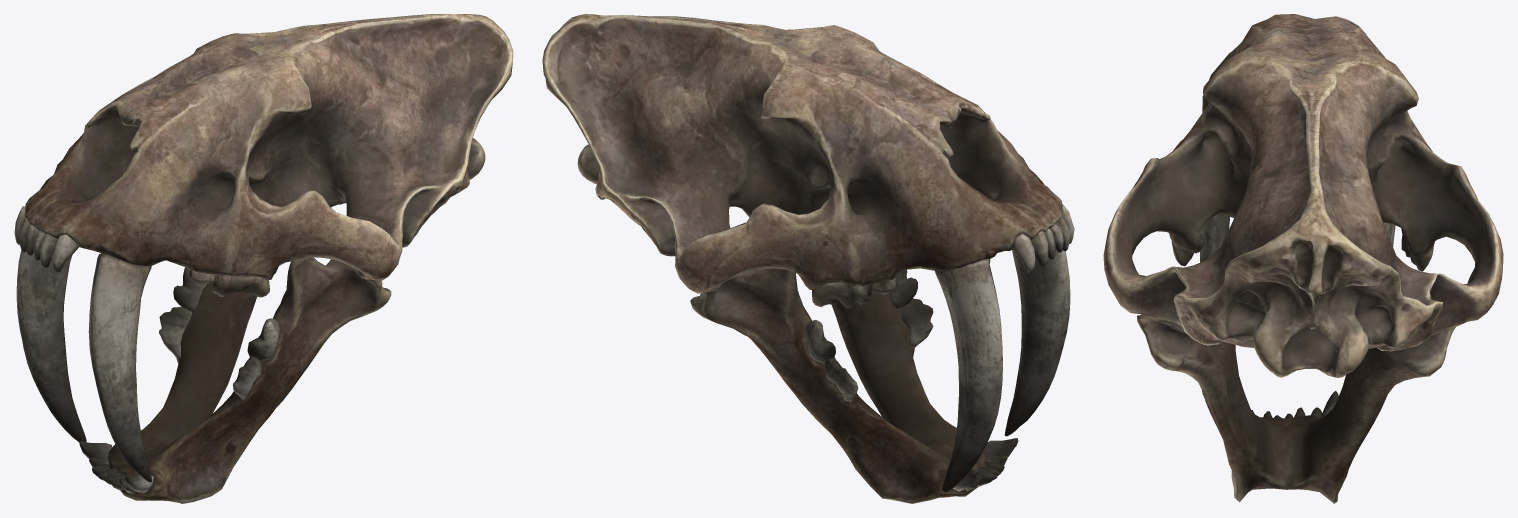
File: smilodon.glb
3 renders of one model, left to right at view 1: azimuth 30°, elevation 25°; view 2: azimuth 150°, elevation 25°; view 3: azimuth 270°, elevation 25°, orthographic. The views are drawn at different scales.
Visible parts, largest first — view 1: Dents_low_Material #26_0; view 2: Dents_low_Material #26_0; view 3: Dents_low_Material #26_0.
Part boxes in pixels (x1=…): Dents_low_Material #26_0: x1=14, y1=14, x2=513, y2=503; Dents_low_Material #26_0: x1=542, y1=14, x2=1074, y2=503; Dents_low_Material #26_0: x1=1103, y1=14, x2=1503, y2=503.
Size of the model in its own units: 0.4887 by 0.4048 by 0.2955.
Materials: 1 (1 with a texture image).
